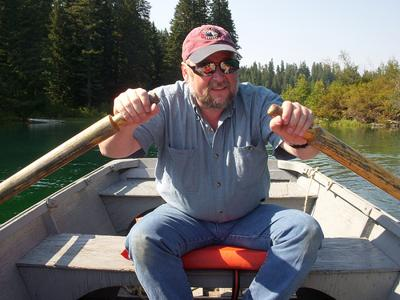person: (95, 22, 324, 300)
